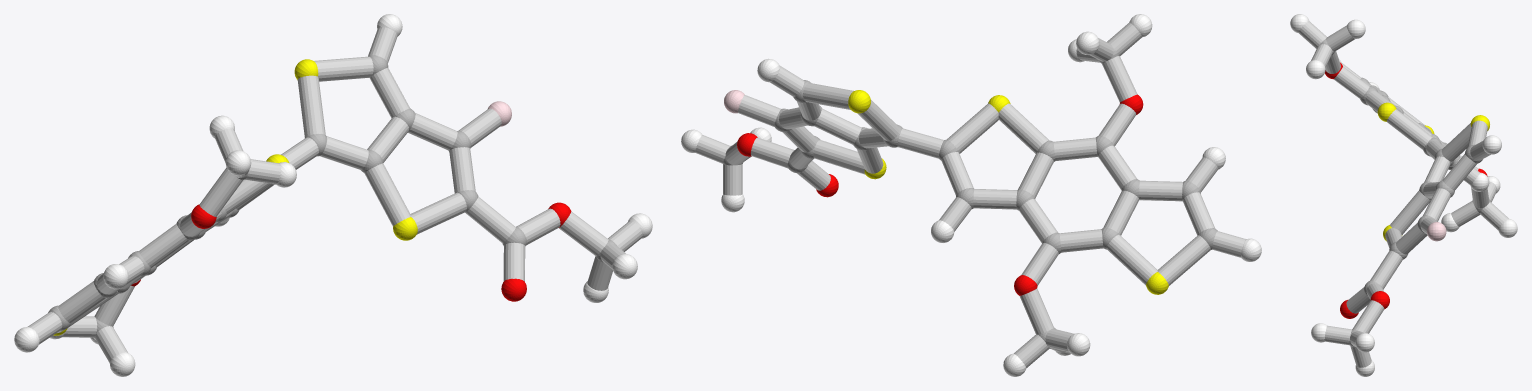
The model's file is Dimethoxy_Benzodithiophene_Phi_5_Theta_90_Methylcarbonyl_3_Fluoro_Thienothiophene.glb.
3 renders of one model, left to right at view 1: azimuth 30°, elevation 25°; view 2: azimuth 150°, elevation 25°; view 3: azimuth 270°, elevation 25°, orthographic. The views are drawn at different scales.
Parts seen in each view (by area): view 1: grp15205, grp8689, grp1, grp13395, grp7241; view 2: grp15205, grp8689, grp1, grp7241, grp13395; view 3: grp15205, grp8689, grp1, grp13395, grp7241, grp14843.
Boxes of the visible parts, bbox=[...] form: grp15205: bbox=[27, 27, 642, 363]; grp8689: bbox=[14, 14, 652, 376]; grp1: bbox=[48, 55, 616, 338]; grp13395: bbox=[131, 202, 571, 301]; grp7241: bbox=[53, 59, 417, 335]; grp15205: bbox=[695, 22, 1246, 367]; grp8689: bbox=[681, 14, 1261, 376]; grp1: bbox=[723, 48, 1217, 348]; grp7241: bbox=[848, 90, 1168, 294]; grp13395: bbox=[737, 94, 1143, 295]; grp15205: bbox=[1298, 21, 1508, 367]; grp8689: bbox=[1290, 14, 1517, 376]; grp1: bbox=[1320, 38, 1490, 347]; grp13395: bbox=[1325, 62, 1487, 318]; grp7241: bbox=[1377, 102, 1489, 241]; grp14843: bbox=[1427, 222, 1446, 241].
Size of the model in its own units: 17.05 by 7.62 by 6.99.
